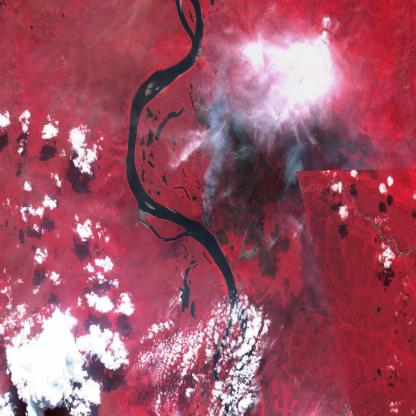fire: (276, 158, 308, 199), (193, 203, 215, 234)
